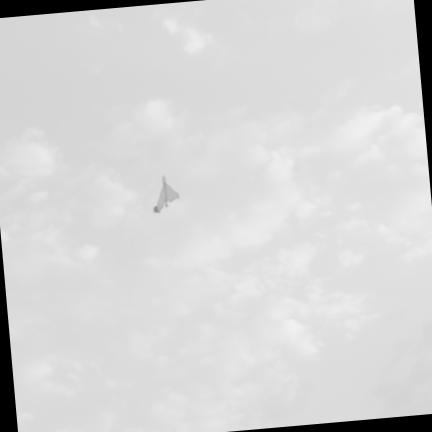Shahed: (154, 176, 179, 212)
